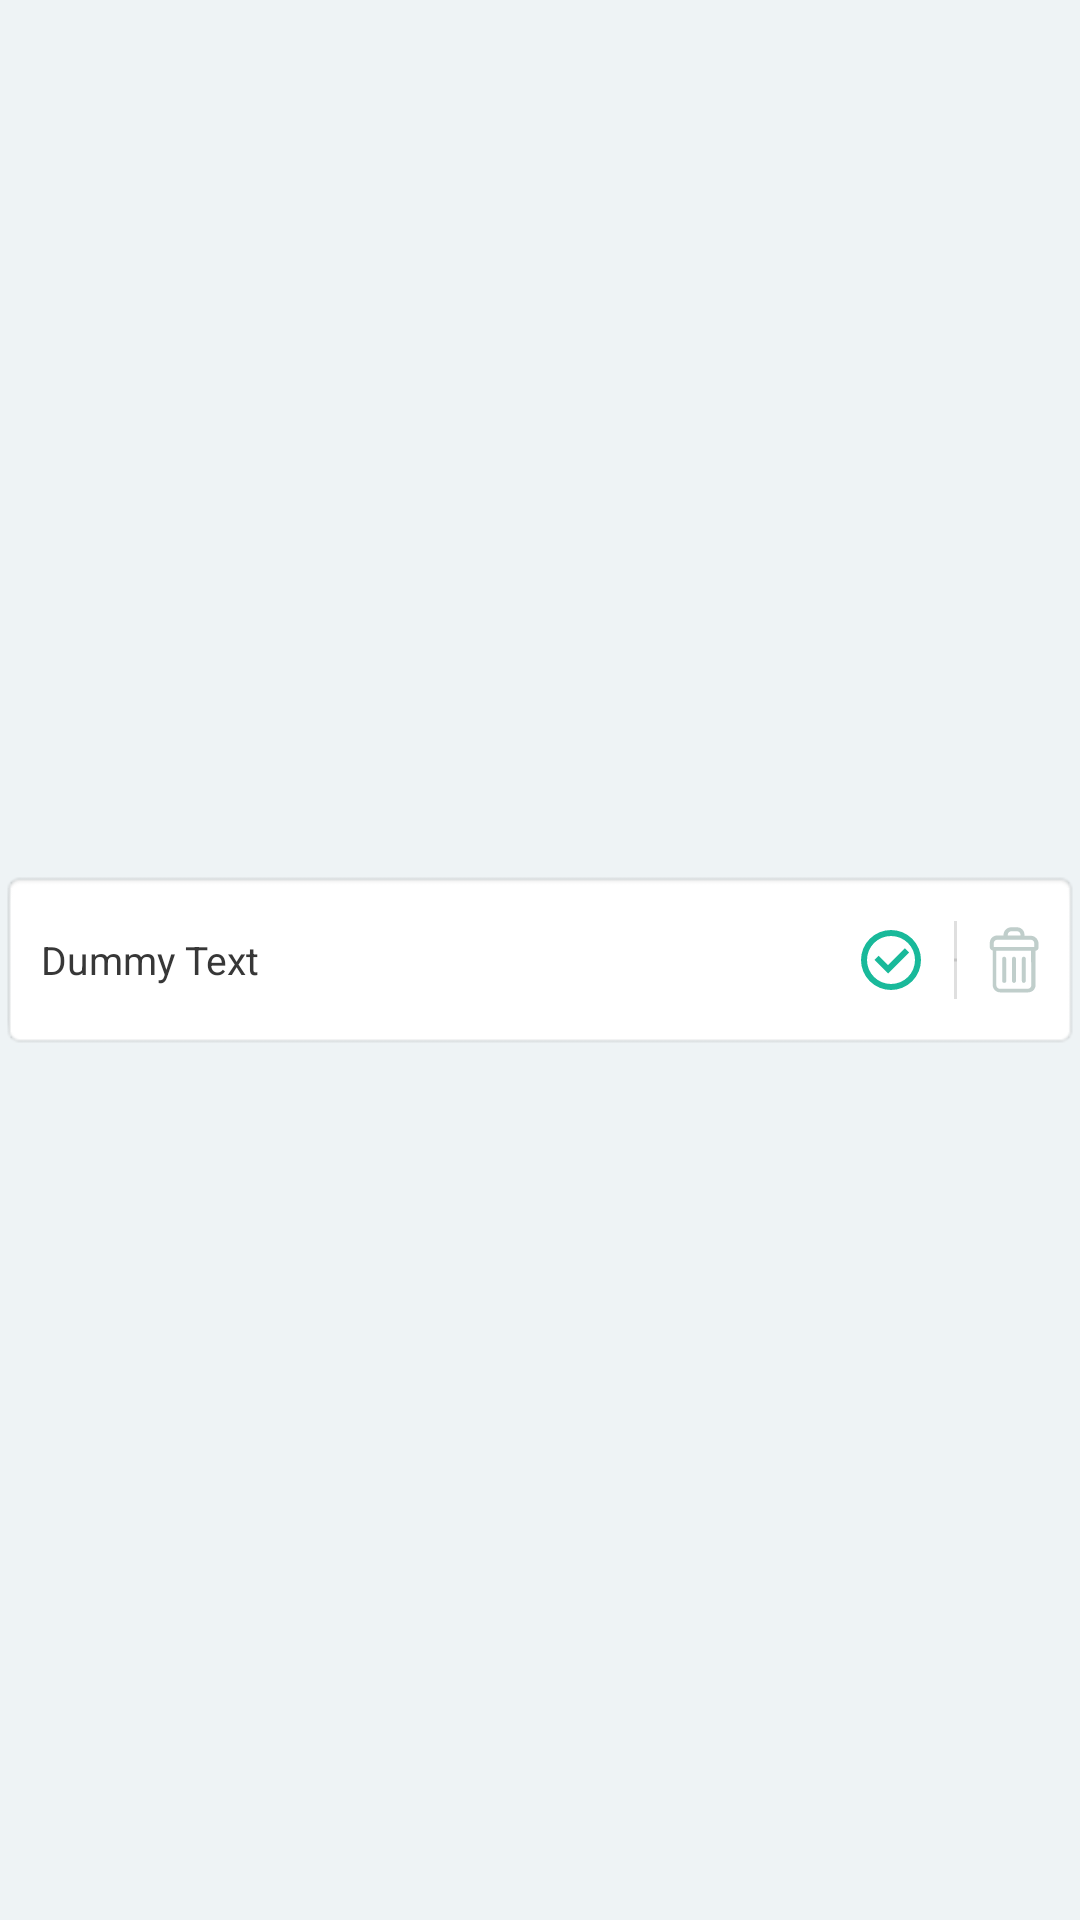

Locate icon controls on the screen. Image size 1080px x 1920px, boxes as [left=x1, top=y1, right=x2, bottom=y2].
check circle: [left=861, top=930, right=921, bottom=990]
remove: [left=990, top=927, right=1039, bottom=993]
